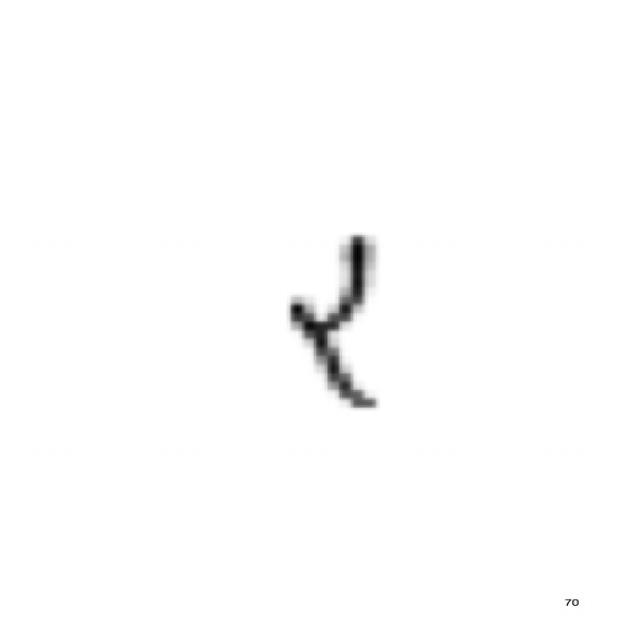3 -three-: (266, 221, 409, 424)
